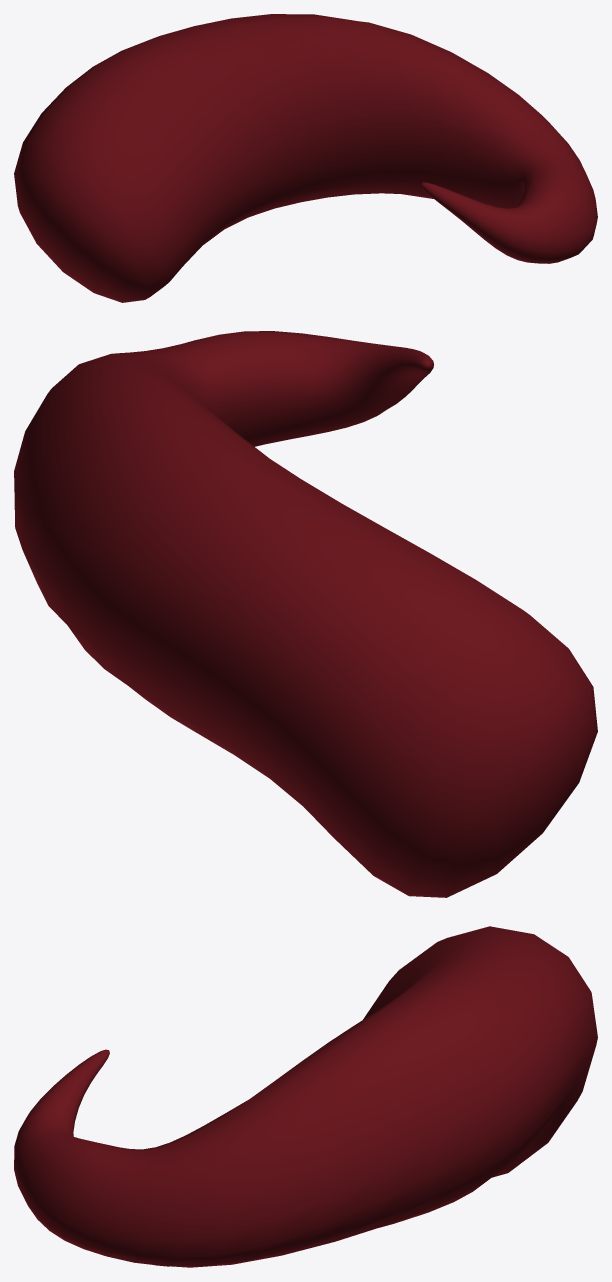
File: horn.fbx
3 renders of one model, top to bottom at view 1: azimuth 30°, elevation 25°; view 2: azimuth 150°, elevation 25°; view 3: azimuth 270°, elevation 25°, orthographic. The views are drawn at different scales.
Visible parts, largest first — view 1: Cube.001; view 2: Cube.001; view 3: Cube.001.
Boxes of the visible parts, x1=… form: Cube.001: x1=14, y1=14, x2=597, y2=302; Cube.001: x1=14, y1=331, x2=597, y2=897; Cube.001: x1=14, y1=926, x2=597, y2=1267.
Size of the model in its own units: 113 by 60.43 by 110.
